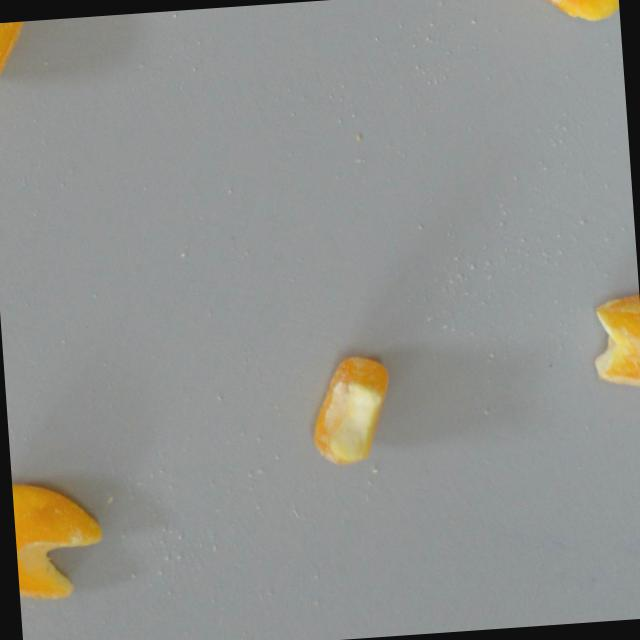pelicula: (11, 477, 108, 601), (307, 352, 394, 467), (590, 291, 640, 393), (519, 0, 620, 26), (0, 20, 31, 97)
